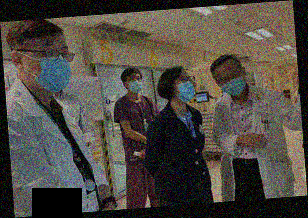with_mask: (23, 42, 72, 93), (216, 70, 247, 96), (174, 73, 196, 102), (126, 75, 144, 94)
